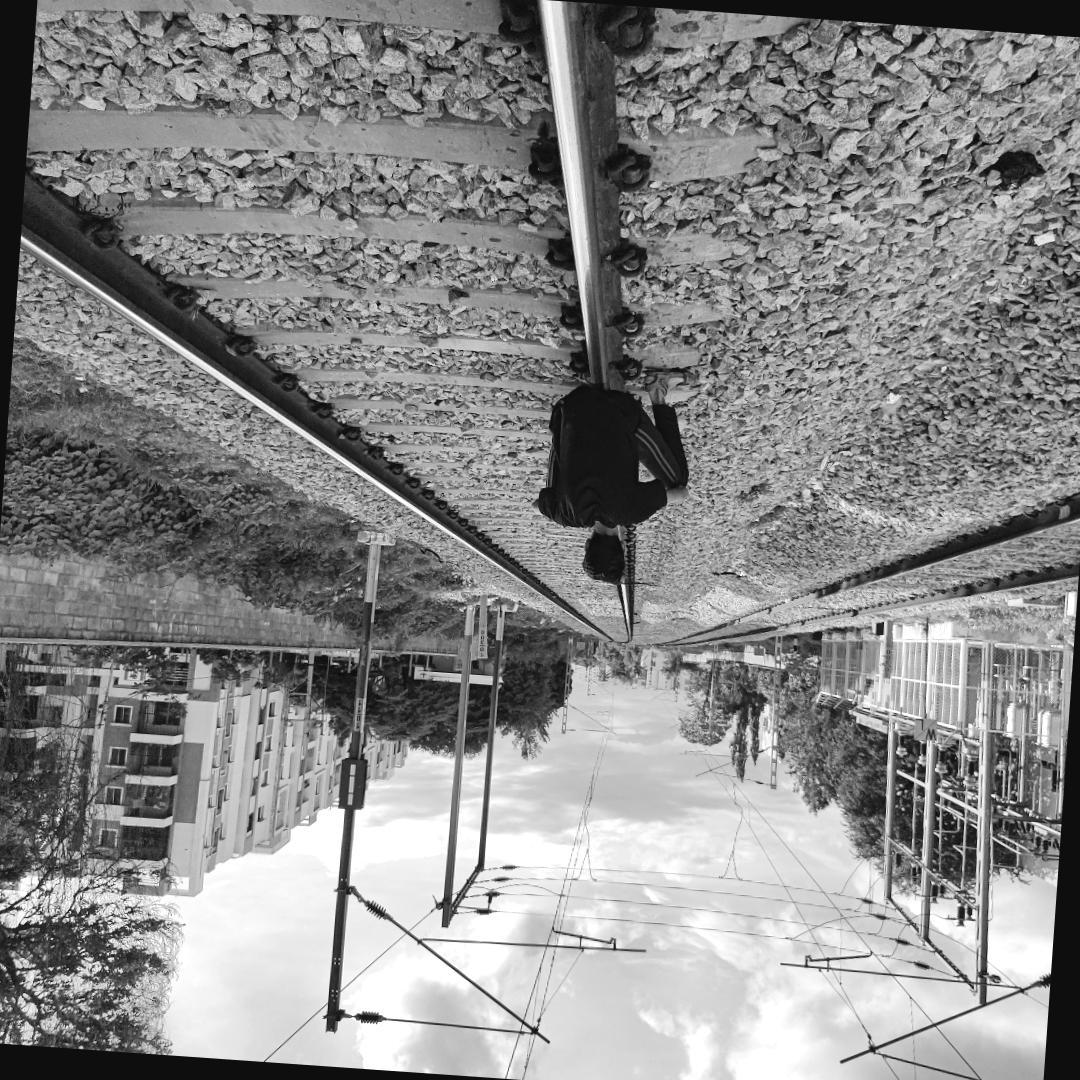sitting: (530, 353, 708, 591)
